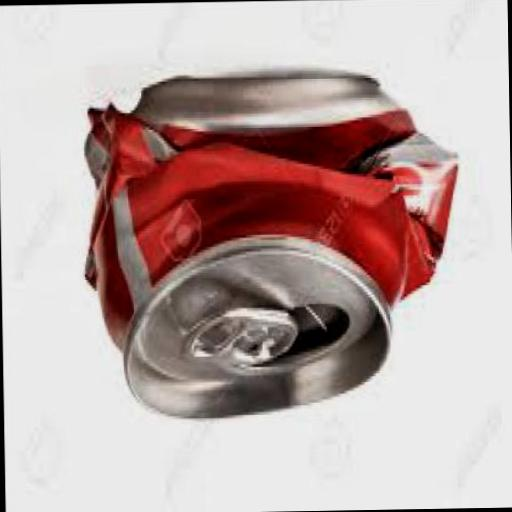metal: (78, 66, 466, 425), (182, 312, 300, 370)
